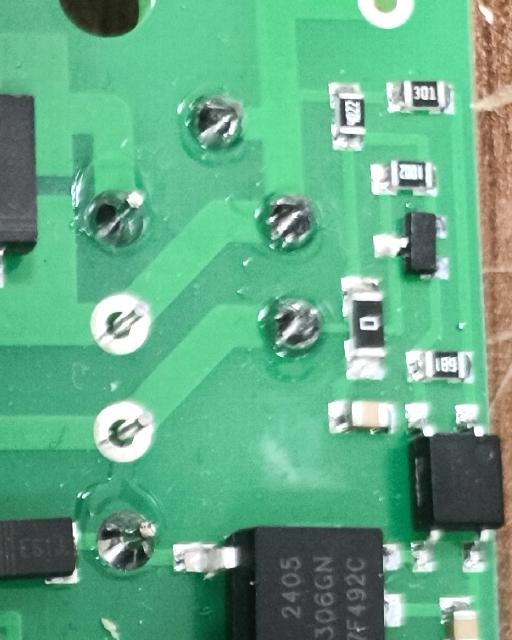chip-capacitor: (326, 397, 398, 434), (437, 595, 481, 640)
chip-resistor: (339, 273, 386, 382), (328, 79, 366, 154), (368, 160, 439, 199), (405, 348, 476, 386), (385, 79, 456, 116)
diode: (0, 517, 82, 588)
ic: (169, 525, 408, 640), (404, 400, 505, 575)
transistor: (371, 208, 452, 283)
